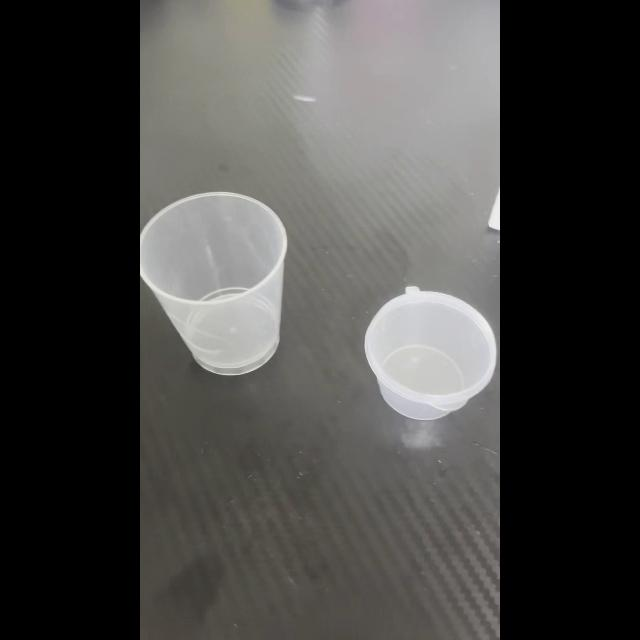clean: (140, 193, 288, 371), (364, 288, 496, 419)
